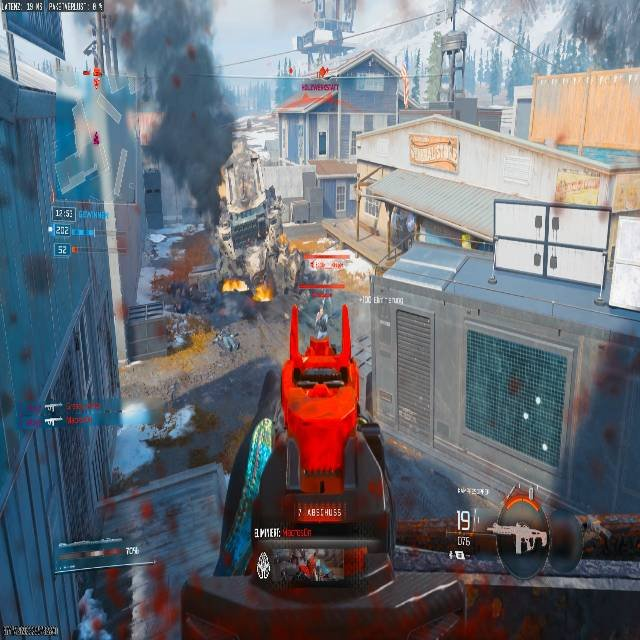player: (263, 185, 285, 241), (315, 304, 327, 335)
